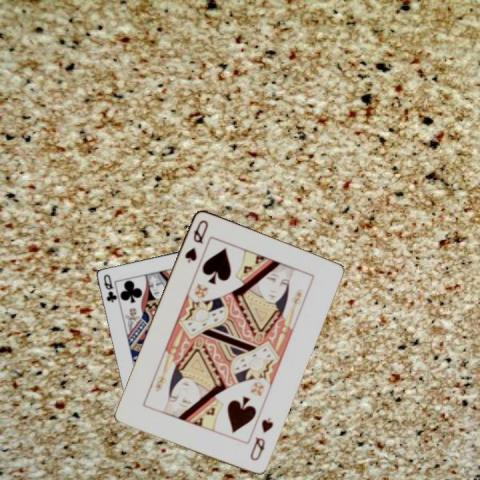Qc: (100, 271, 118, 304)
Qs: (181, 216, 210, 264), (246, 415, 274, 462)
